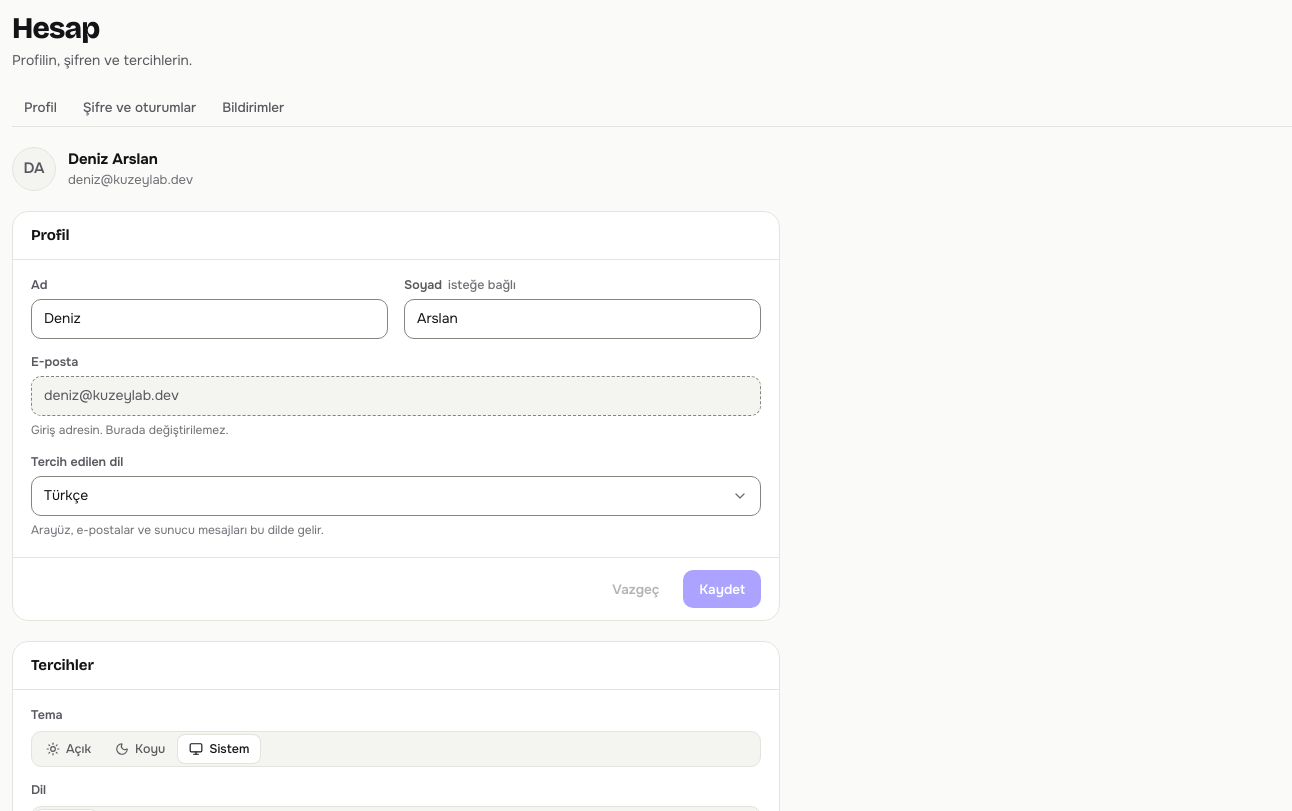
it: account profile › saves the name, surname and language and switches the interface language
Replace the text in the field labelled "Ad" with "Deniz Su" at point(210, 319), box top-left (31, 299), bottom-right (388, 339)
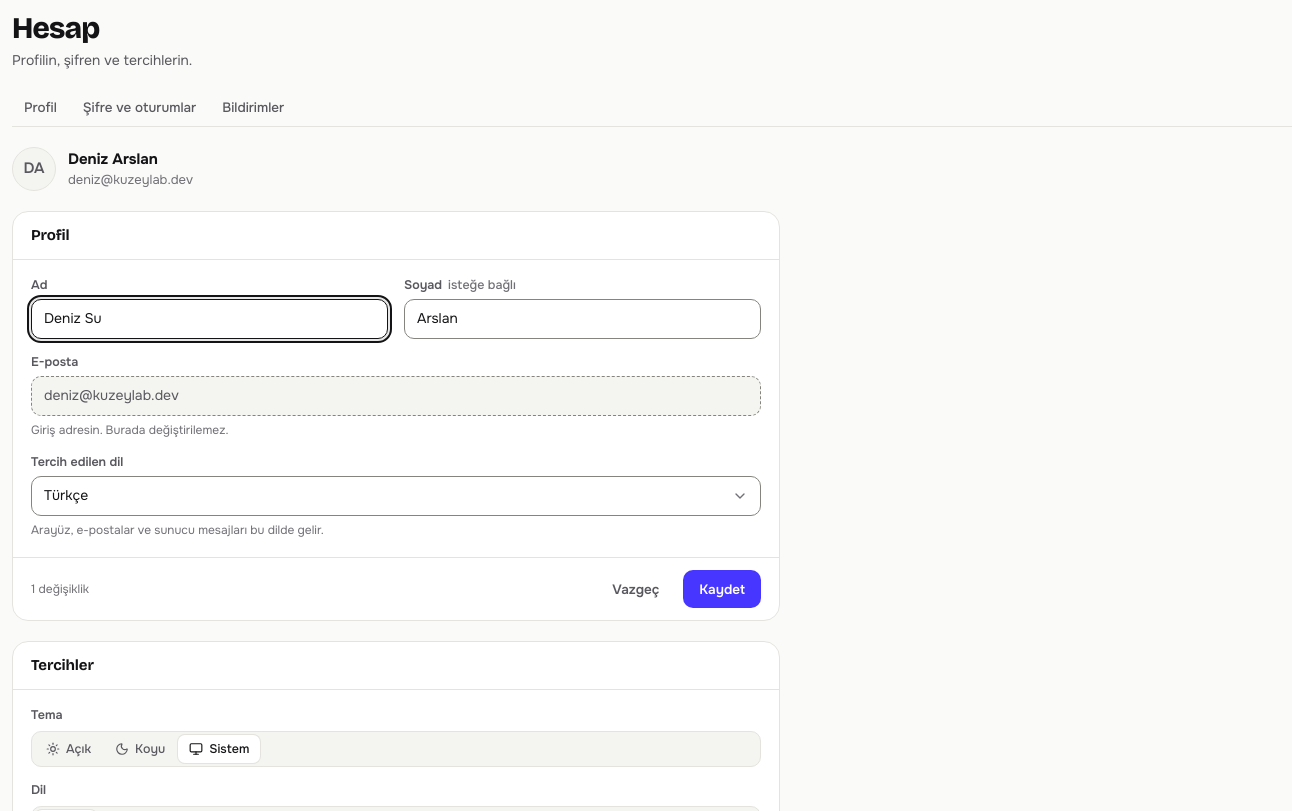
Click the button named "Tercih edilen dil" at point(66, 495), box top-left (31, 476), bottom-right (761, 516)
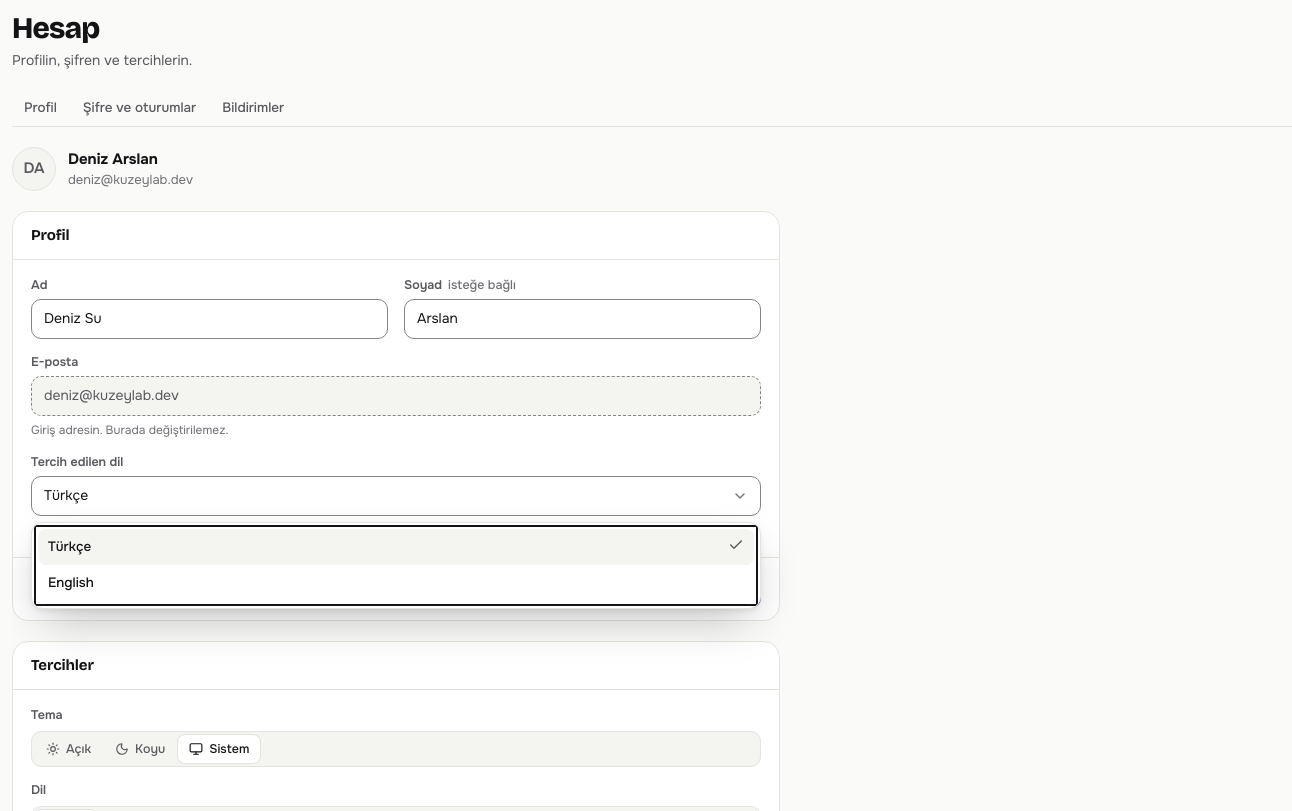
Click the option "English" at point(71, 583), box top-left (48, 574), bottom-right (94, 591)
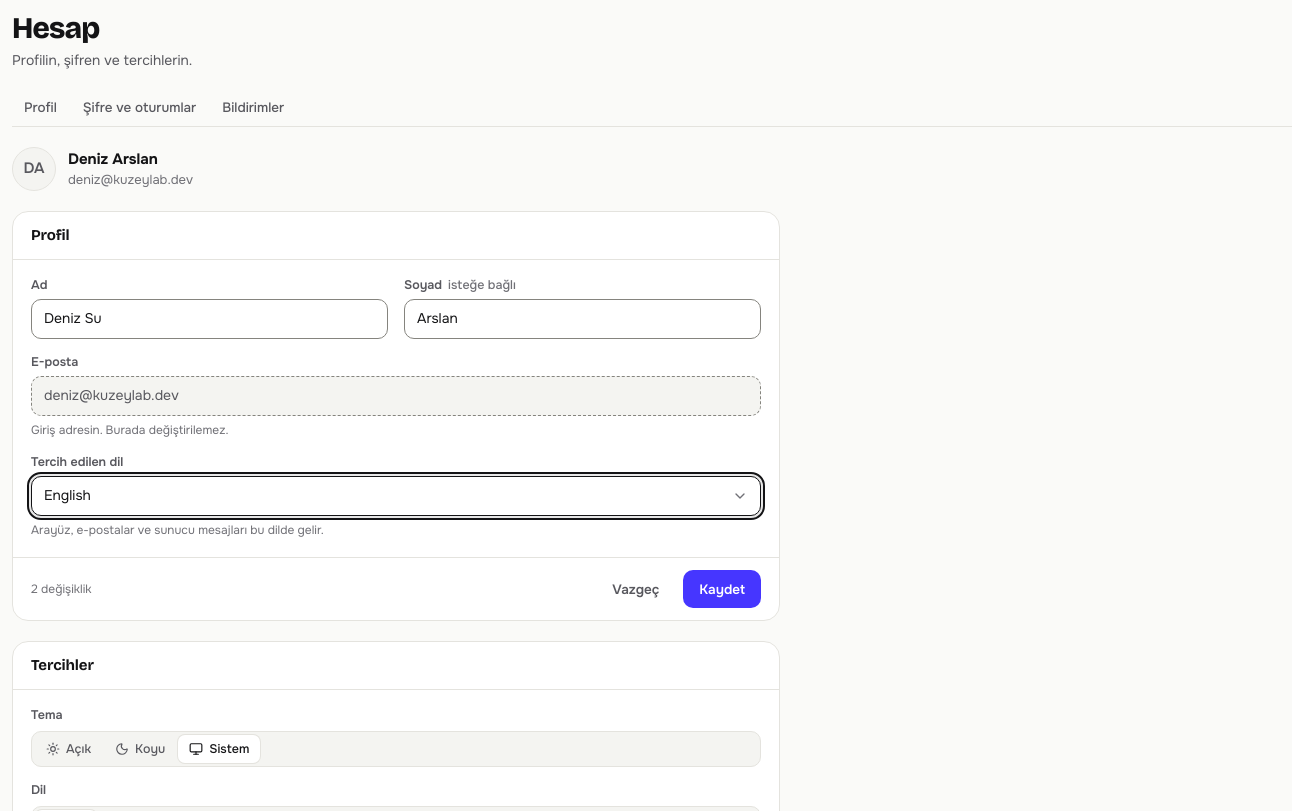
Check: the text "2 değişiklik" is shown, box top-left (31, 581), bottom-right (92, 597)
Click the button "Kaydet" at point(722, 589), box top-left (683, 570), bottom-right (761, 608)
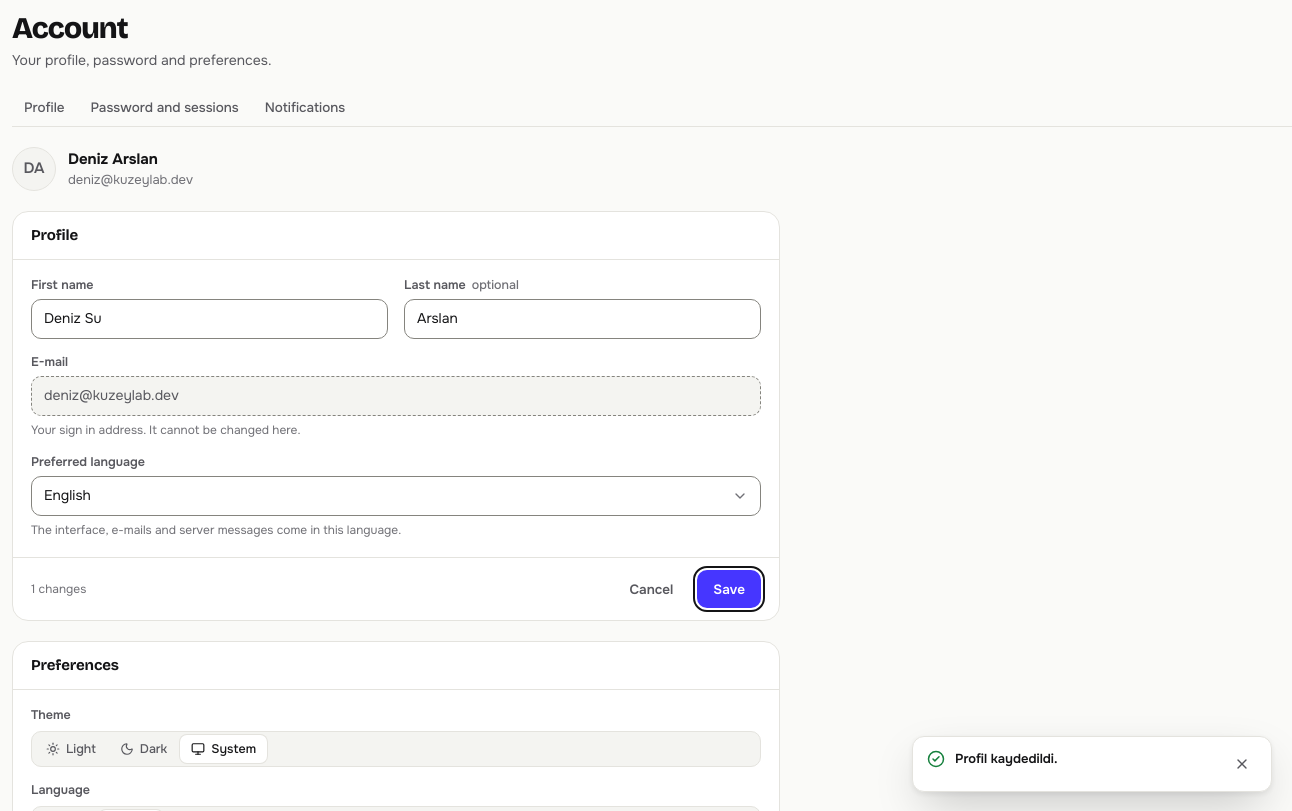
Check: the heading "Account" is shown, box top-left (12, 12), bottom-right (128, 44)
